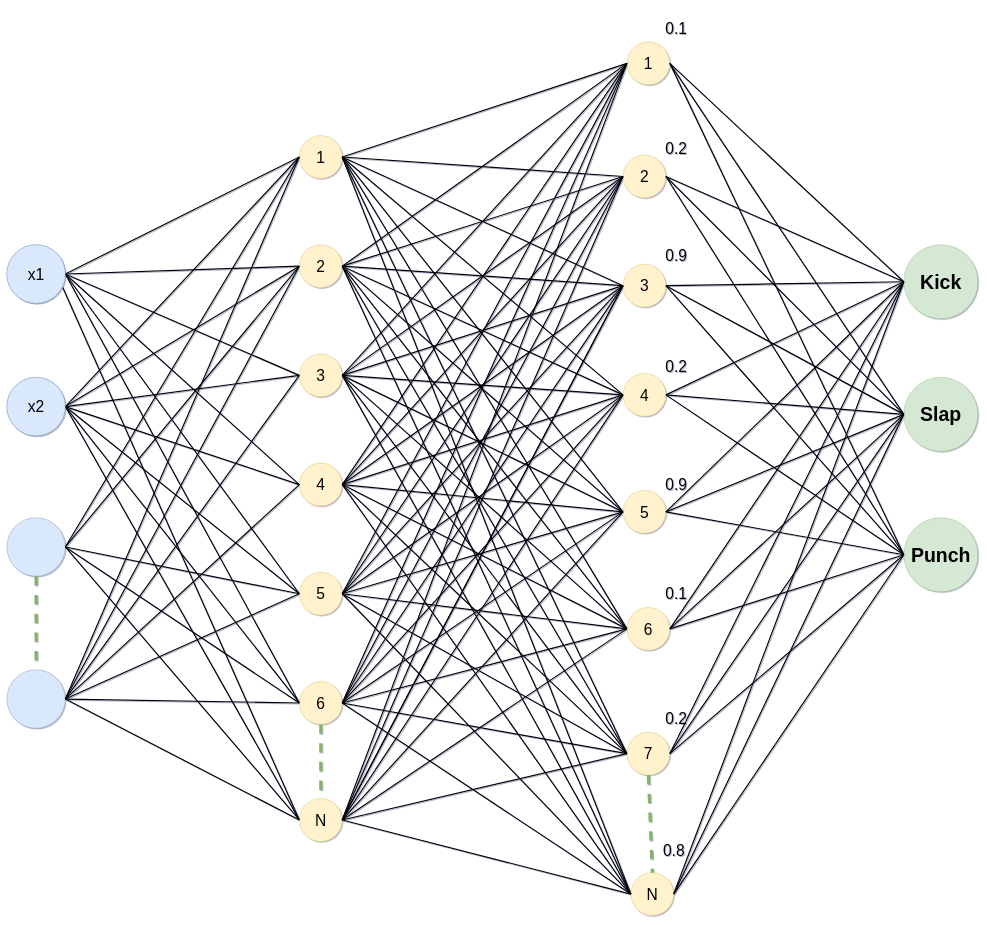
The diagram is 987 pixels wide and 925 high, and some of its shapes have lost their labels. Here are the shapes that lost their labels. From the top down, the centre of each, then its label:
the point at 35,546: x3
the point at 35,698: x25088
